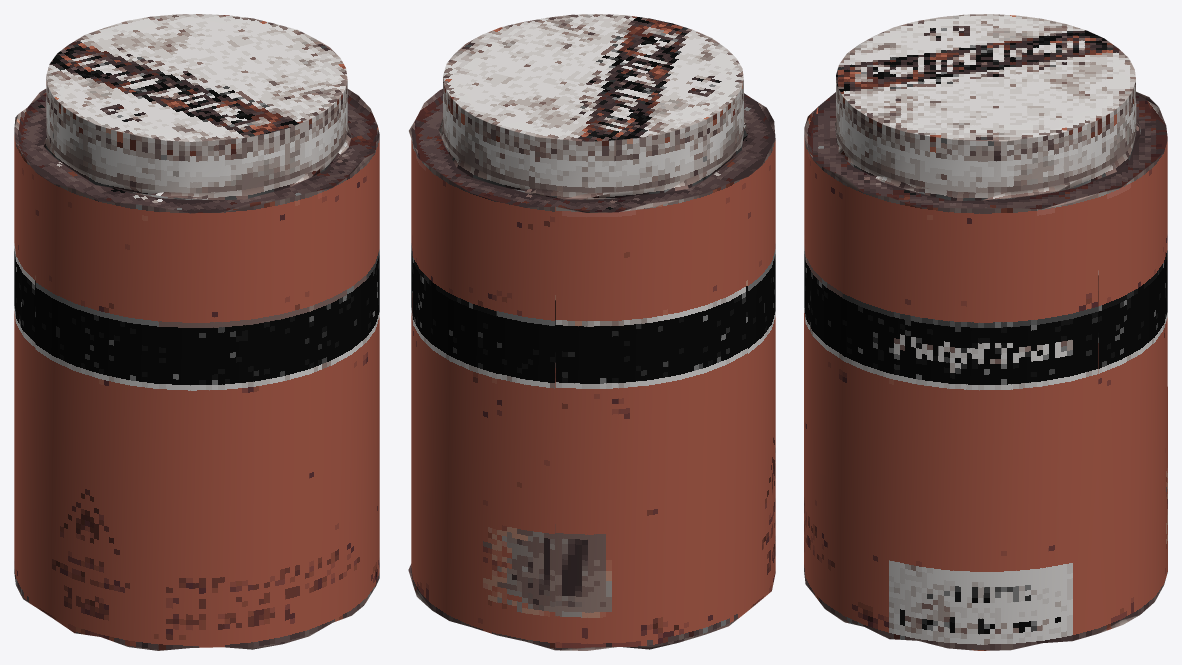
File: cleaner_tin_01.glb
3 renders of one model, left to right at view 1: azimuth 30°, elevation 25°; view 2: azimuth 150°, elevation 25°; view 3: azimuth 270°, elevation 25°, orthographic.
Visible parts, largest first — view 1: body; view 2: body; view 3: body.
Boxes of the visible parts, left/top/right/bottom form: body: left=14, top=14, right=379, bottom=650; body: left=408, top=14, right=775, bottom=650; body: left=804, top=14, right=1167, bottom=650.
Bounding box in the file's own units: 0.0863 × 0.1304 × 0.0863.
Materials: 1 (1 with a texture image).
